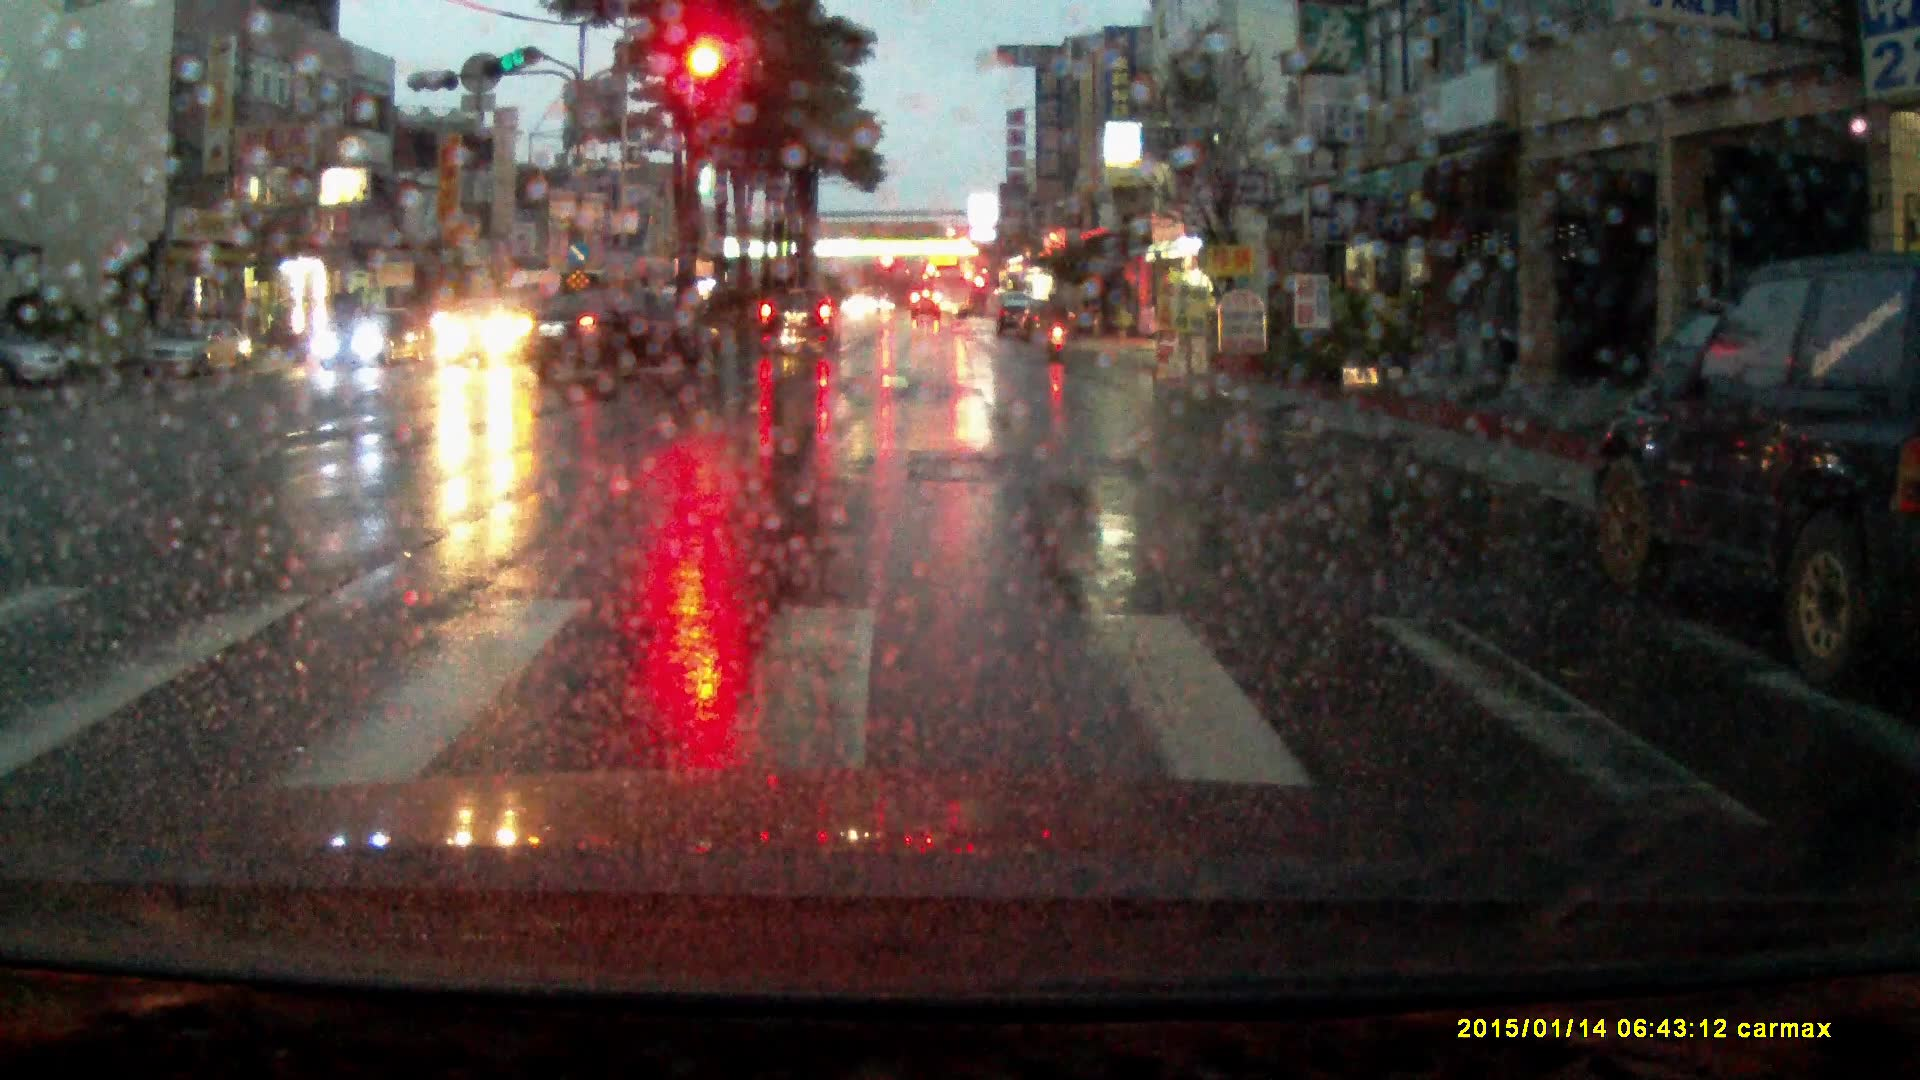rider: (1037, 290, 1076, 363)
vehicle: (1582, 248, 1920, 683), (516, 293, 722, 381), (316, 305, 429, 374), (756, 285, 847, 365), (142, 314, 253, 380), (494, 268, 591, 341), (574, 288, 664, 340), (1, 331, 69, 389), (1017, 300, 1079, 346), (931, 264, 973, 321), (995, 295, 1030, 338), (911, 291, 943, 322)
